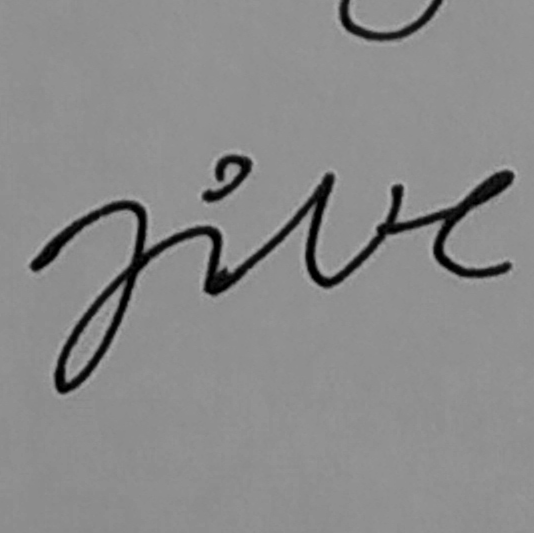e: (428, 167, 521, 283)
i: (188, 148, 260, 300)
j: (48, 194, 150, 398)
v: (296, 165, 408, 295)
